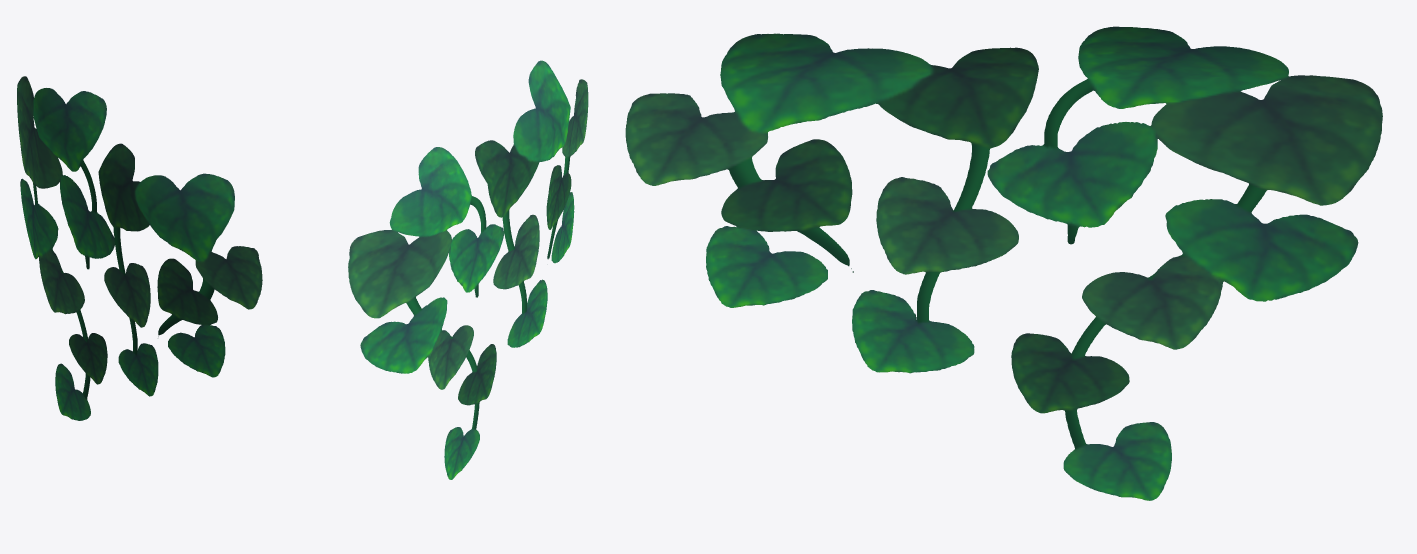
The model's file is Asset_Vigne_B_01.fbx.
The picture shows the model from 3 angles, left to right: view 1: azimuth 30°, elevation 25°; view 2: azimuth 150°, elevation 25°; view 3: azimuth 270°, elevation 25°; orthographic projection. The views are drawn at different scales.
Parts seen in each view (by area): view 1: Asset_Vigne_B_01; view 2: Asset_Vigne_B_01; view 3: Asset_Vigne_B_01.
Part boxes in pixels (bbox=[...]): Asset_Vigne_B_01: bbox=[17, 76, 262, 420]; Asset_Vigne_B_01: bbox=[348, 60, 588, 479]; Asset_Vigne_B_01: bbox=[625, 26, 1382, 500].
Size of the model in its own units: 61.39 by 357 by 480.
